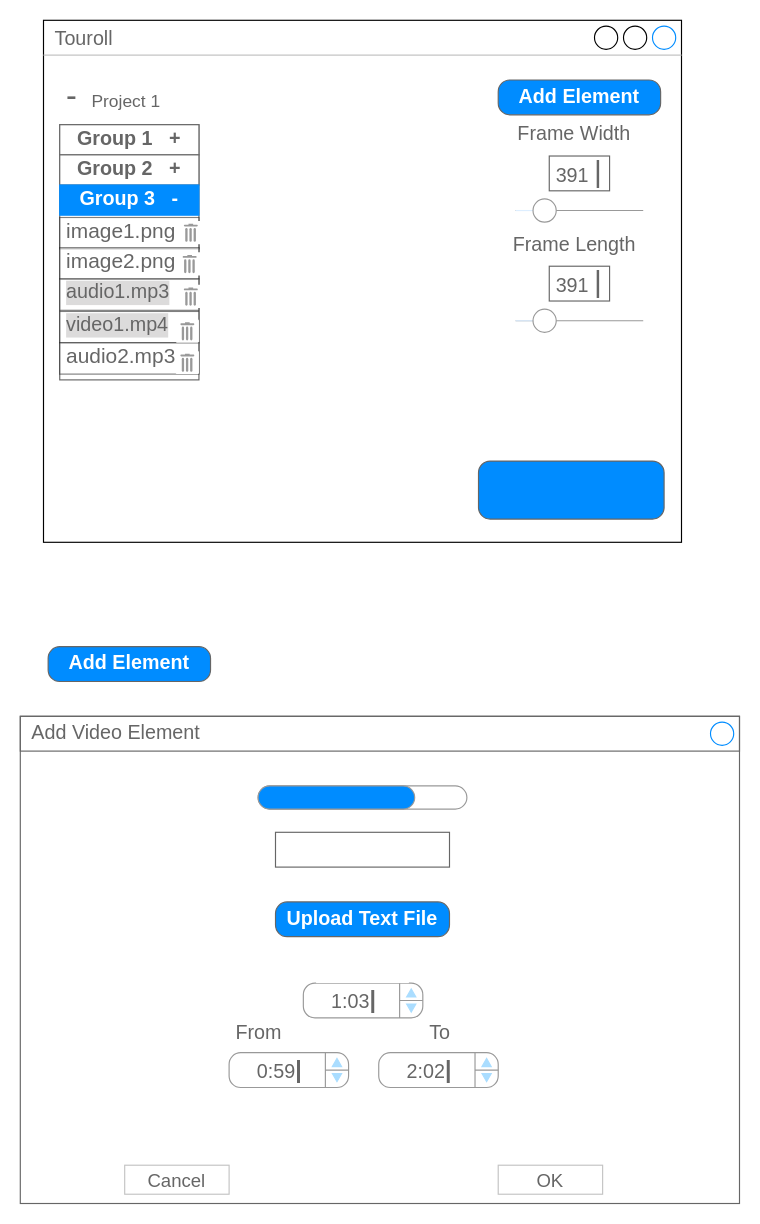
This 760x1224 diagram has some shape labels left out. The shapes that lost their labels are listed below. From the top down, each one's centre as x and y in pixels, then its label:
At point 570,489: "Generate Video".
At point 362,797: "Speak Text".
At point 361,849: "Type text here".
At point 362,965: "Duration".
